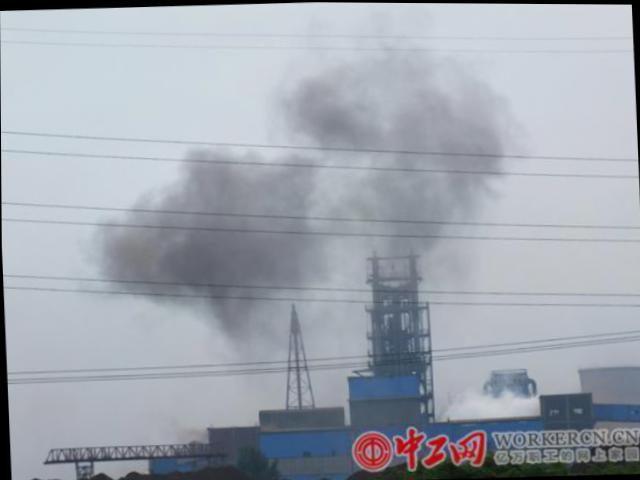smoke: (294, 51, 510, 176), (214, 133, 308, 324), (114, 201, 222, 321), (333, 168, 479, 251)
